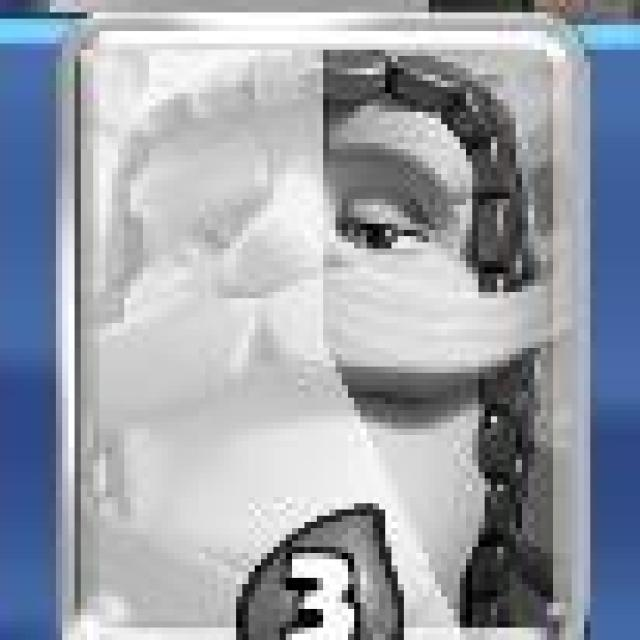Knight: (64, 16, 610, 640)
